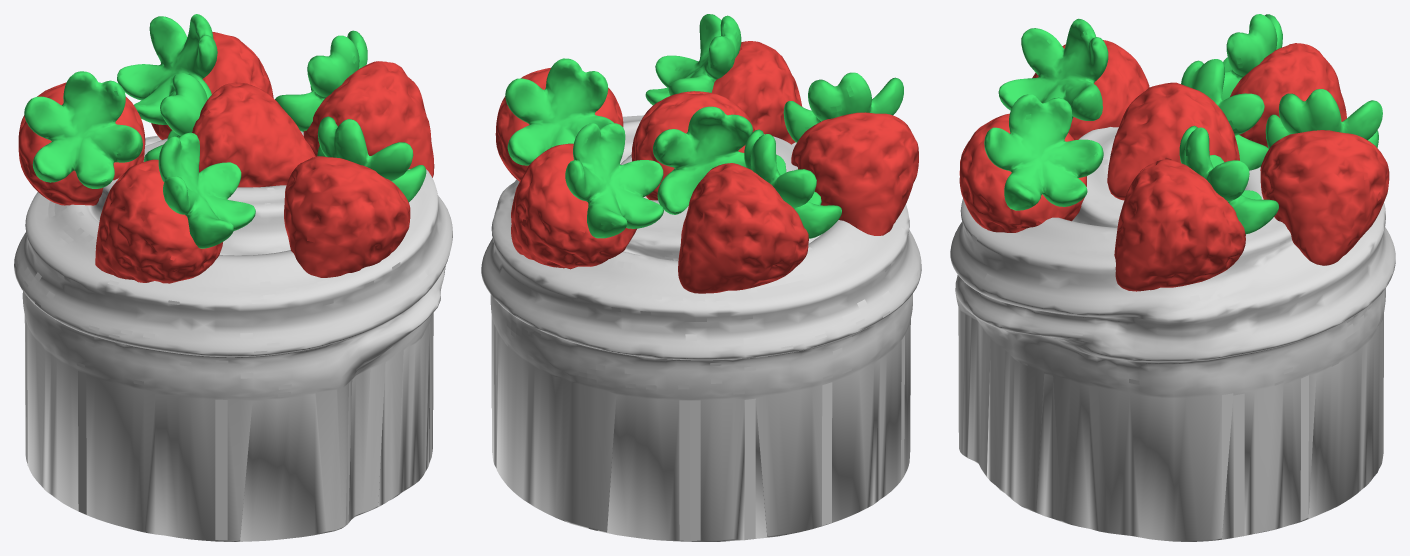
Rendered from keycap_Strawberry.glb.
3 renders of one model, left to right at view 1: azimuth 30°, elevation 25°; view 2: azimuth 150°, elevation 25°; view 3: azimuth 270°, elevation 25°, orthographic.
Parts seen in each view (by area): view 1: keycap_oreo; view 2: keycap_oreo; view 3: keycap_oreo.
Boxes of the visible parts, x1,y1,x2,y2 form: keycap_oreo: (14,14,452,541); keycap_oreo: (481,14,921,541); keycap_oreo: (950,14,1395,541).
Size of the model in its own units: 18.6 by 17.55 by 18.53.
